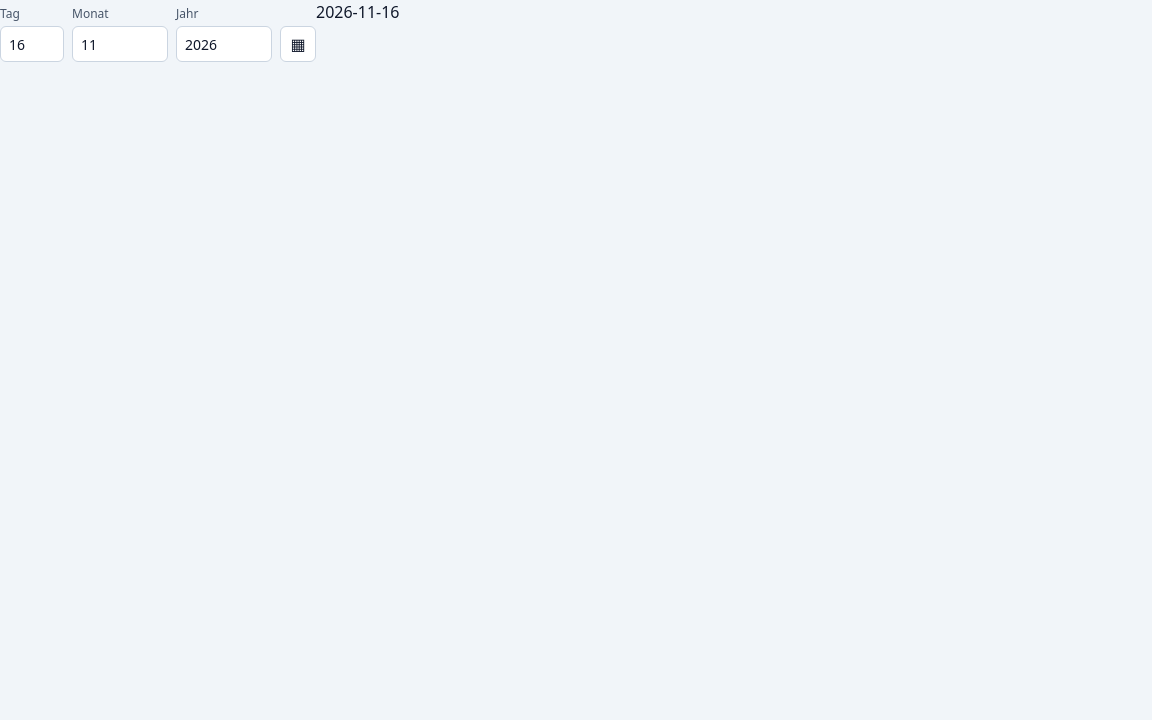
calendar popover › opens, selects a full date and closes
Click the button named "Kalender öffnen". click: point(298, 44)
box: [280, 26, 316, 62]
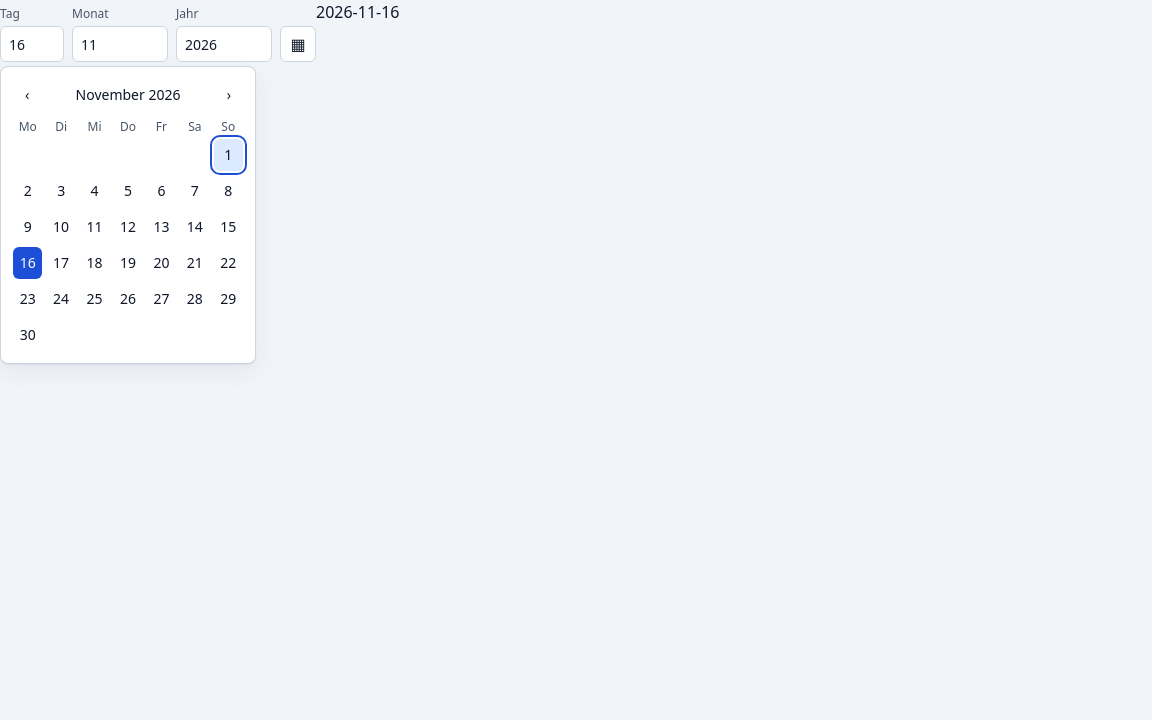
expect the text "November 2026" is shown: met, box [76, 85, 180, 105]
Click the button named "20. November 2026". click: point(161, 263)
box: [147, 247, 176, 279]
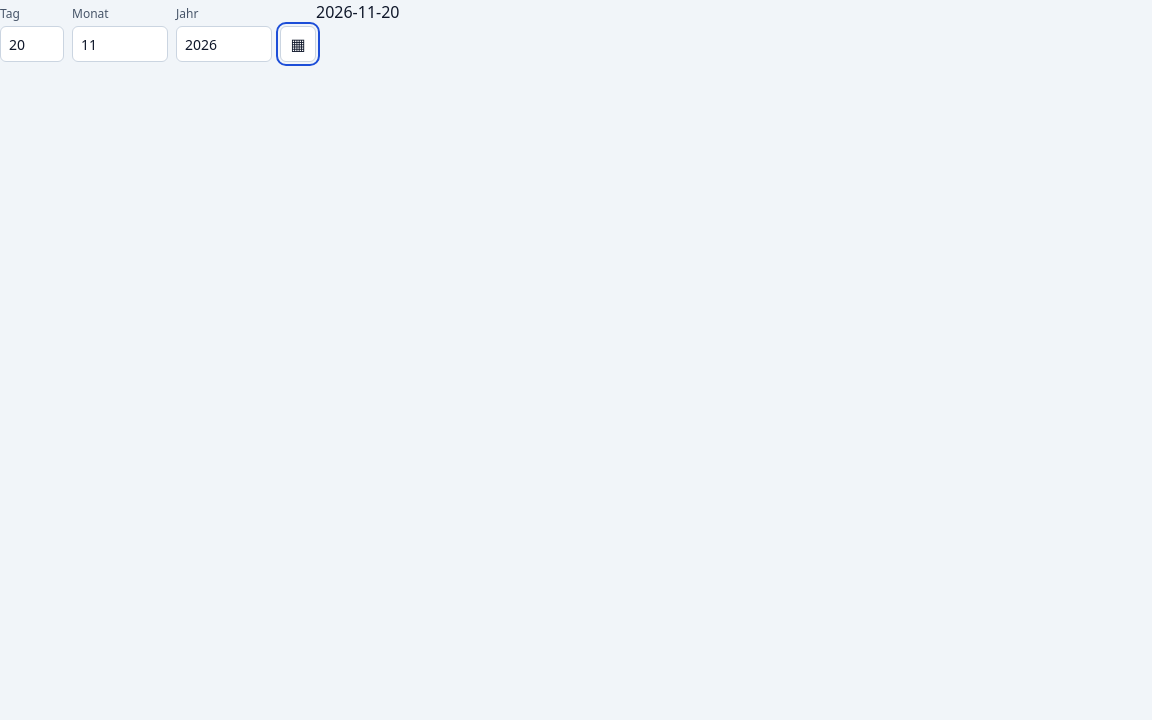
expect the dialog is gone: met
